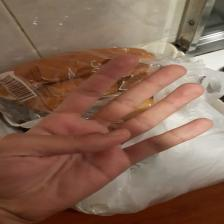four: (11, 50, 213, 179)
